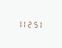five: (33, 20, 37, 28)
one: (18, 19, 22, 27), (23, 19, 27, 27), (38, 20, 42, 28)
two: (28, 19, 32, 28)
